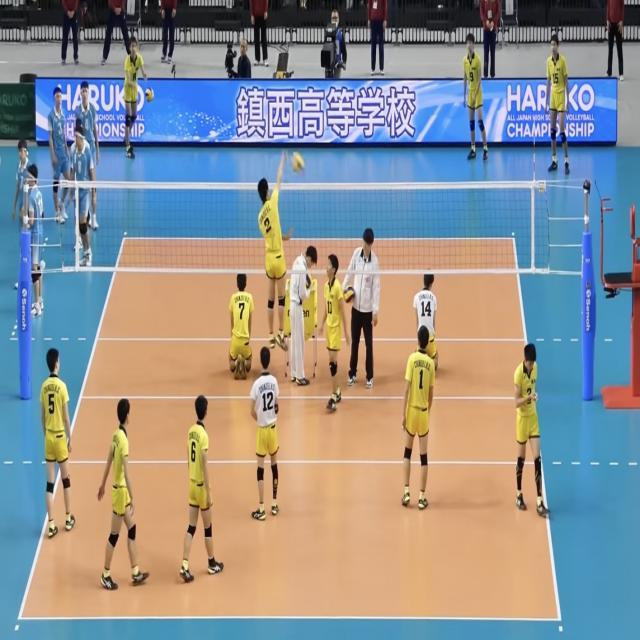spike: (254, 134, 302, 350)
